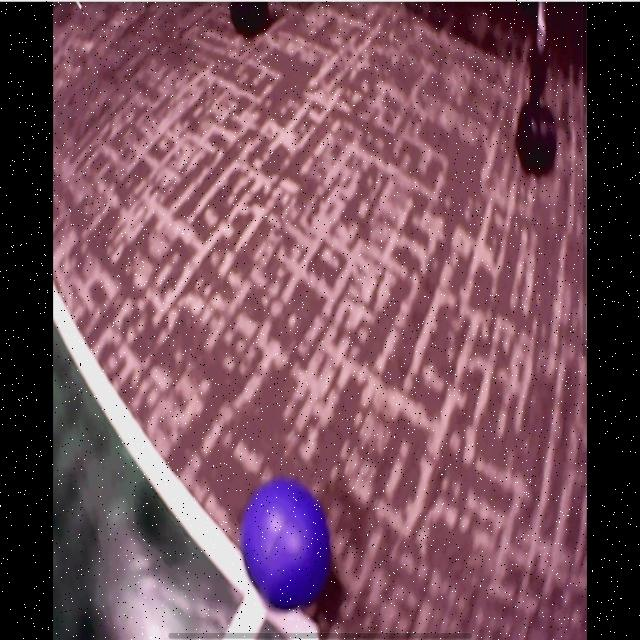ball: (241, 476, 331, 608)
